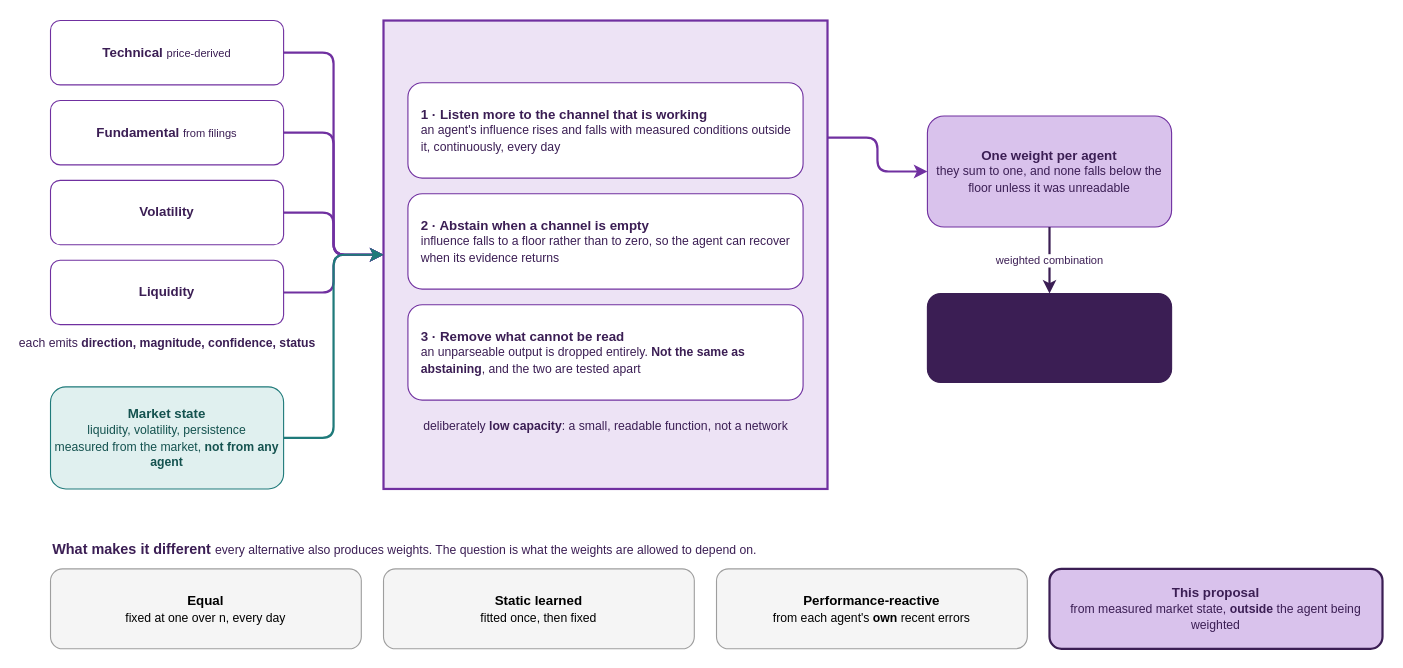
Some shapes in this 1403 by 668 pixel diagram are drawn without their labels. Each missing label, with the box of its shape:
One decision for that ticker, that day: (926, 292, 1172, 382)
Weighting operator w i,t = f(L t , V t , P t , C i,t ): (382, 19, 828, 490)
